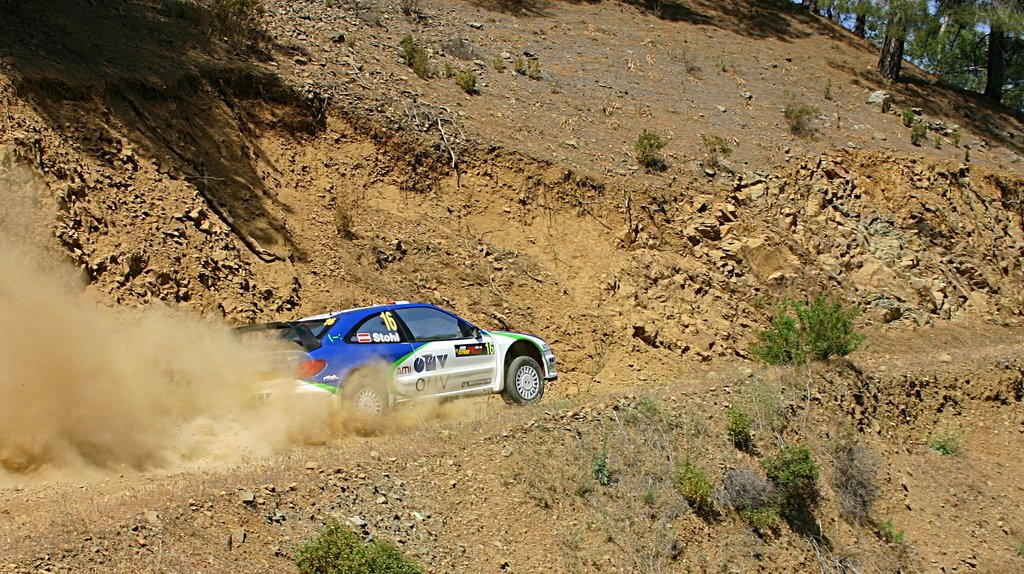cars: (272, 287, 539, 403)
